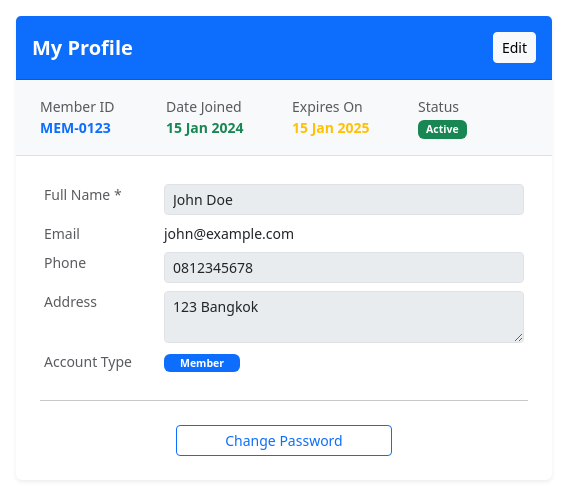
Test: UserProfile Page › can enter edit mode and cancel
Expected: the heading "My Profile" is shown, [32, 36, 133, 60]
Click the button "Edit" at (514,48), box [493, 32, 536, 63]
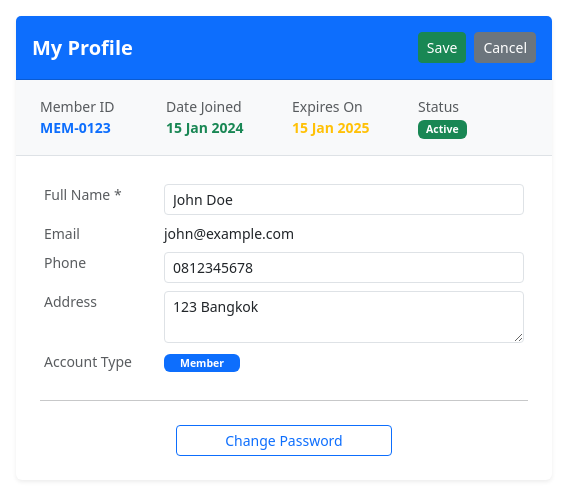
Replace the text in the field showing "John Doe" next to "Full Name *" with "Jane Doe" at (344,199), box [164, 184, 524, 214]
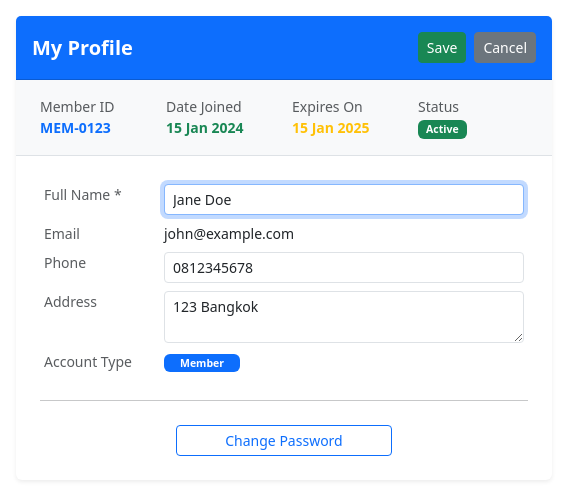
Click the button "Cancel" at (505,48), box [474, 32, 536, 63]
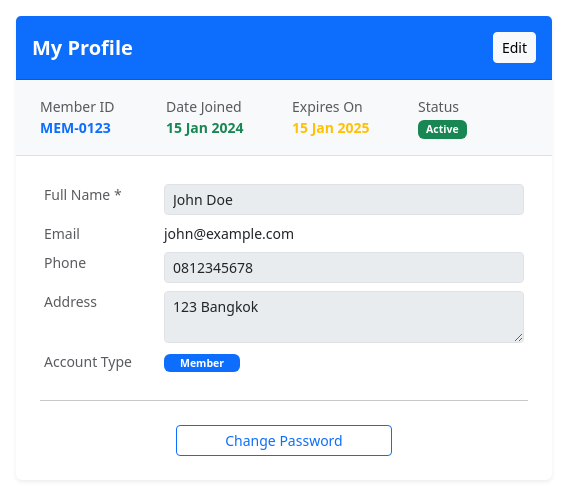
Expected: the field showing "John Doe" next to "Full Name *" is shown, [164, 184, 524, 214]
